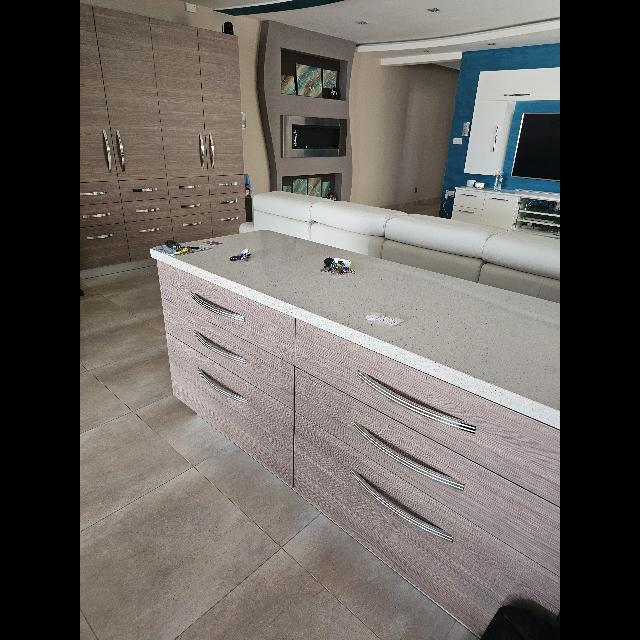Keys: (320, 256, 354, 274), (229, 248, 251, 262)
